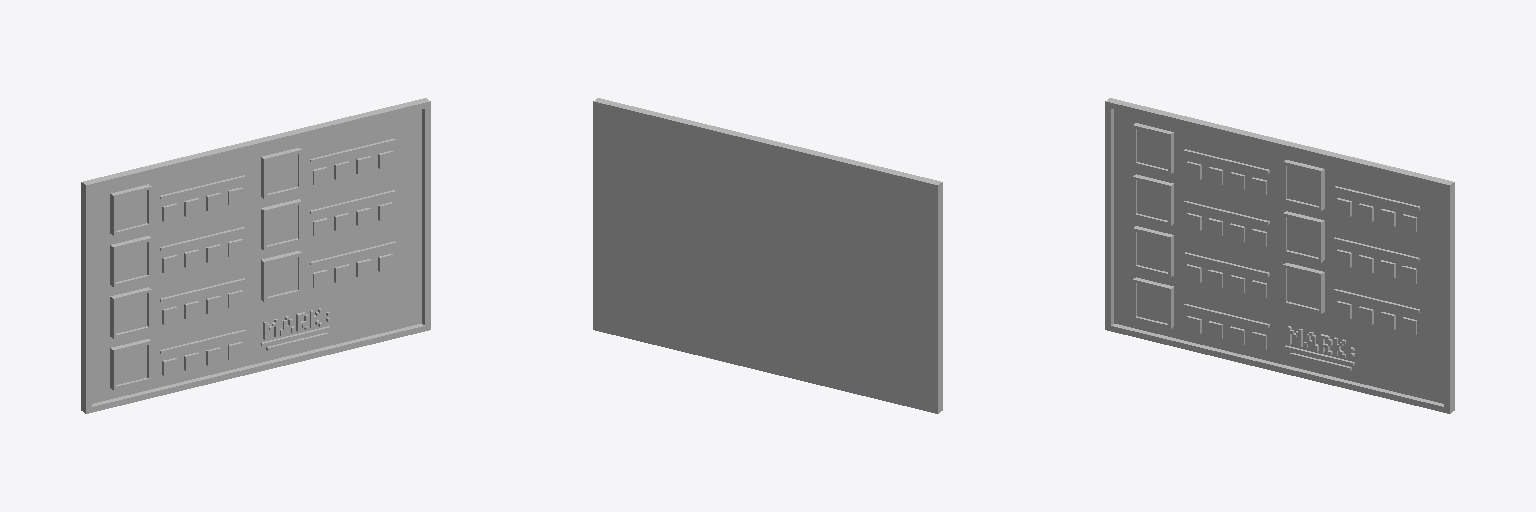
The model's file is Menu Mark Good-1-Menu.obj.
3 renders of one model, left to right at view 1: azimuth 30°, elevation 25°; view 2: azimuth 150°, elevation 25°; view 3: azimuth 330°, elevation 25°, orthographic.
Parts seen in each view (by area): view 1: Menu; view 2: Menu; view 3: Menu.
Boxes of the visible parts, box(x1,y1,x2,y2) form: Menu: box(81, 98, 430, 413); Menu: box(593, 98, 942, 413); Menu: box(1105, 98, 1454, 413).
Bounding box in the file's own units: 12.6 × 8 × 0.3.